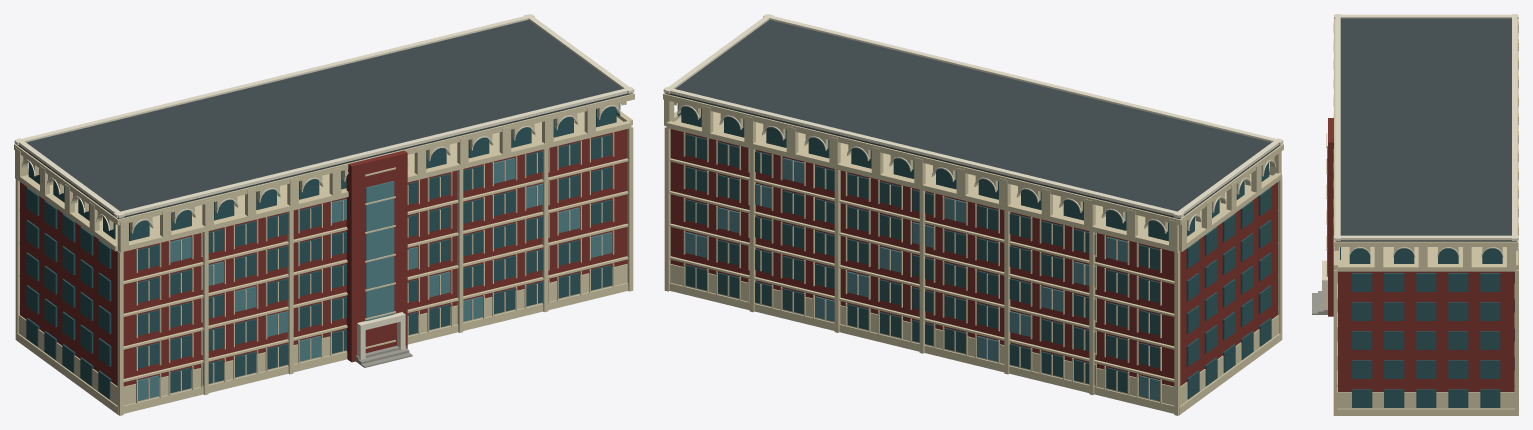
The picture shows the model from 3 angles, left to right: view 1: azimuth 30°, elevation 25°; view 2: azimuth 150°, elevation 25°; view 3: azimuth 270°, elevation 25°; orthographic projection. The views are drawn at different scales.
Visible parts, largest first — view 1: MainBlock_Roof, MainBlock_Structure, MainBlock_WindowGlass, MainBlock_WindowFrames, MainBlock_SideWindows, MainBlock_RoofCoping, MainBlock_CentralBrickPier, MainBlock_Pilasters, MainBlock_FloorBands, MainBlock_AtticPiers, MainBlock_Plinth, MainBlock_AtticSills (+8 smaller); view 2: MainBlock_Roof, MainBlock_Structure, MainBlock_WindowGlass, MainBlock_WindowFrames, MainBlock_Pilasters, MainBlock_FloorBands, MainBlock_SideWindows, MainBlock_RoofCoping, MainBlock_AtticPiers, MainBlock_Plinth, MainBlock_AtticSills, MainBlock_AtticRecess (+5 smaller); view 3: MainBlock_Roof, MainBlock_Structure, MainBlock_SideWindows, MainBlock_RoofCoping, MainBlock_Cornice, MainBlock_GroundStonework, MainBlock_Plinth, MainBlock_AtticPiers, MainBlock_Pilasters, MainBlock_AtticFloor, MainBlock_AtticRecess, MainBlock_CentralBrickPier (+4 smaller).
Part boxes in pixels (<box>): MainBlock_Roof: <box>17,20,632,218</box>; MainBlock_Structure: <box>20,129,627,386</box>; MainBlock_WindowGlass: <box>138,134,612,401</box>; MainBlock_WindowFrames: <box>136,132,614,403</box>; MainBlock_SideWindows: <box>26,187,111,399</box>; MainBlock_RoofCoping: <box>14,14,634,218</box>; MainBlock_CentralBrickPier: <box>346,150,407,362</box>; MainBlock_Pilasters: <box>15,126,633,415</box>; MainBlock_FloorBands: <box>19,158,628,382</box>; MainBlock_AtticPiers: <box>15,105,595,252</box>; MainBlock_Plinth: <box>16,283,628,414</box>; MainBlock_AtticSills: <box>20,111,632,251</box>; MainBlock_Roof: <box>665,20,1280,218</box>; MainBlock_Structure: <box>670,129,1277,386</box>; MainBlock_WindowGlass: <box>685,134,1159,401</box>; MainBlock_WindowFrames: <box>683,132,1161,403</box>; MainBlock_Pilasters: <box>664,126,1282,415</box>; MainBlock_FloorBands: <box>669,158,1278,382</box>; MainBlock_SideWindows: <box>1186,187,1271,399</box>; MainBlock_RoofCoping: <box>663,14,1283,218</box>; MainBlock_AtticPiers: <box>664,99,1281,252</box>; MainBlock_Plinth: <box>669,283,1281,414</box>; MainBlock_AtticSills: <box>666,111,1281,250</box>; MainBlock_AtticRecess: <box>677,103,1269,241</box>; MainBlock_Roof: <box>1335,18,1516,241</box>; MainBlock_Structure: <box>1338,271,1514,391</box>; MainBlock_SideWindows: <box>1352,273,1500,407</box>; MainBlock_RoofCoping: <box>1334,14,1518,240</box>; MainBlock_Cornice: <box>1334,19,1518,246</box>; MainBlock_GroundStonework: <box>1337,387,1514,408</box>; MainBlock_Plinth: <box>1335,408,1516,415</box>; MainBlock_AtticPiers: <box>1333,21,1518,271</box>; MainBlock_Pilasters: <box>1333,255,1518,415</box>; MainBlock_AtticFloor: <box>1336,247,1506,271</box>; MainBlock_AtticRecess: <box>1340,247,1502,263</box>; MainBlock_CentralBrickPier: <box>1328,118,1333,316</box>.
Bounding box in the file's own units: 64.75 × 23.94 × 25.18.
